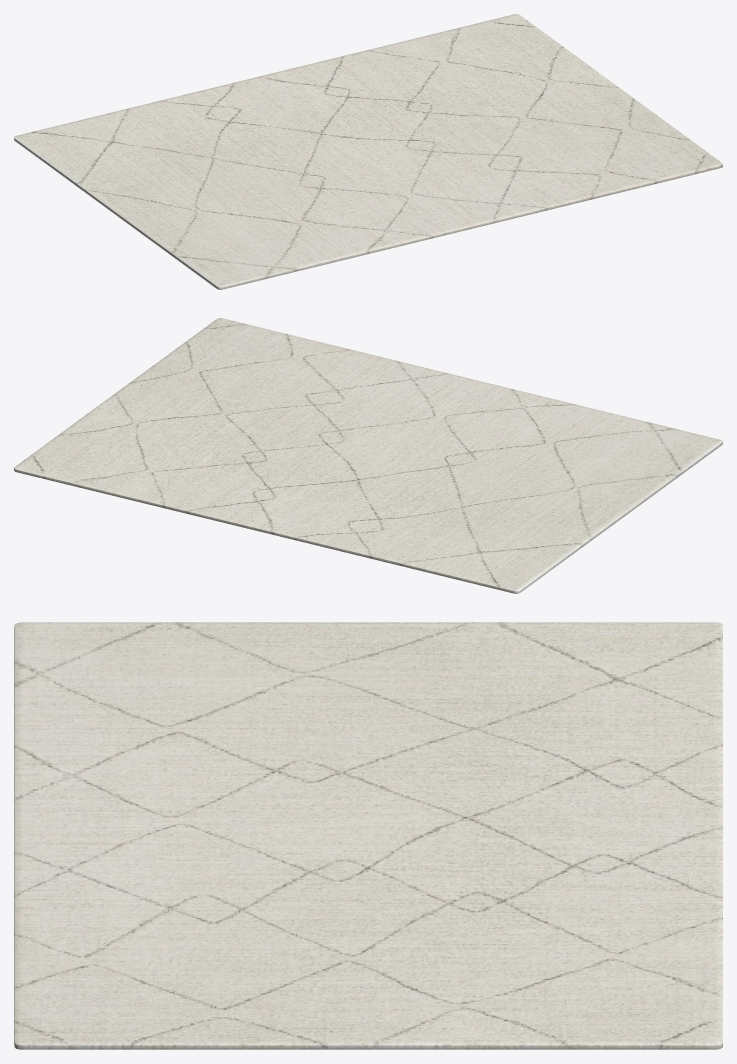
3 renders of one model, top to bottom at view 1: azimuth 30°, elevation 25°; view 2: azimuth 150°, elevation 25°; view 3: azimuth 270°, elevation 25°, orthographic. The views are drawn at different scales.
Parts seen in each view (by area): view 1: Mesh_0.001; view 2: Mesh_0.001; view 3: Mesh_0.001.
Boxes of the visible parts, x1,y1,x2,y2 form: Mesh_0.001: (14,14,722,289); Mesh_0.001: (14,318,722,593); Mesh_0.001: (14,622,722,1049).
Size of the model in its own units: 2.4 by 0.0141 by 1.7.
Materials: 1 (1 with a texture image).
